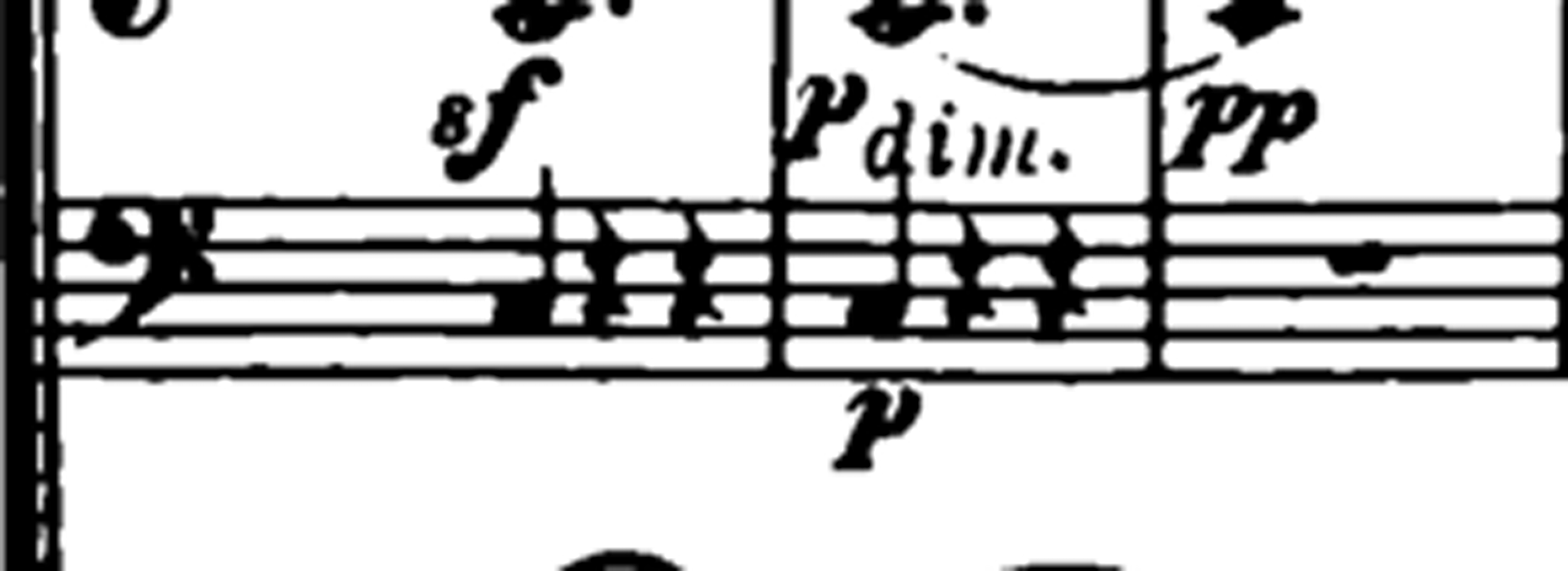clefF: (67, 174, 231, 369)
noteheadBlackInSpace: (554, 0, 589, 23)
restHBar: (7, 255, 1151, 347), (98, 164, 1273, 249), (21, 283, 1195, 361)
